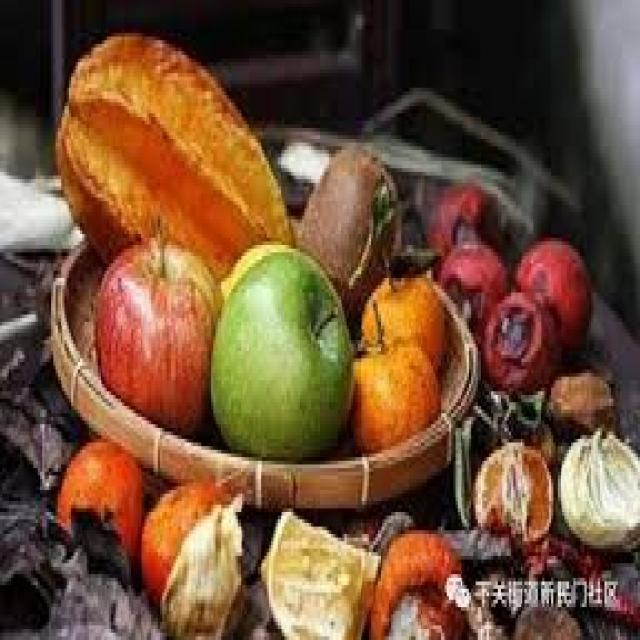biodegradable: (51, 33, 293, 252), (207, 245, 351, 454), (93, 238, 218, 424), (293, 136, 398, 337), (258, 509, 373, 637), (47, 439, 147, 581), (556, 428, 638, 556), (160, 505, 240, 636), (136, 479, 218, 604), (376, 527, 462, 636), (427, 179, 509, 285), (513, 238, 589, 347), (471, 446, 549, 549), (351, 340, 436, 432), (358, 271, 444, 359), (478, 296, 556, 388), (545, 370, 616, 447), (440, 245, 507, 322), (516, 531, 638, 571), (498, 384, 553, 450), (433, 527, 509, 563), (373, 509, 411, 549)
